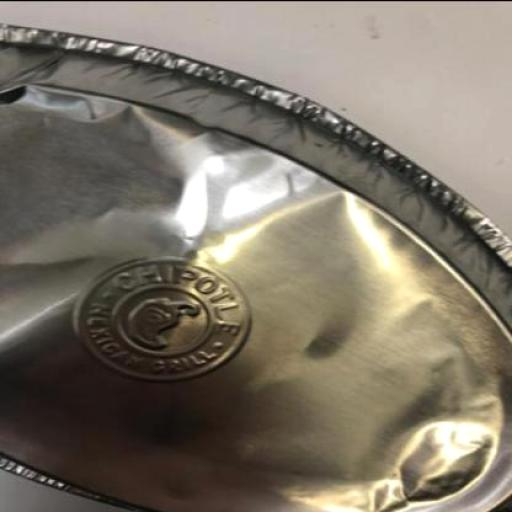metal: (1, 21, 512, 511)
